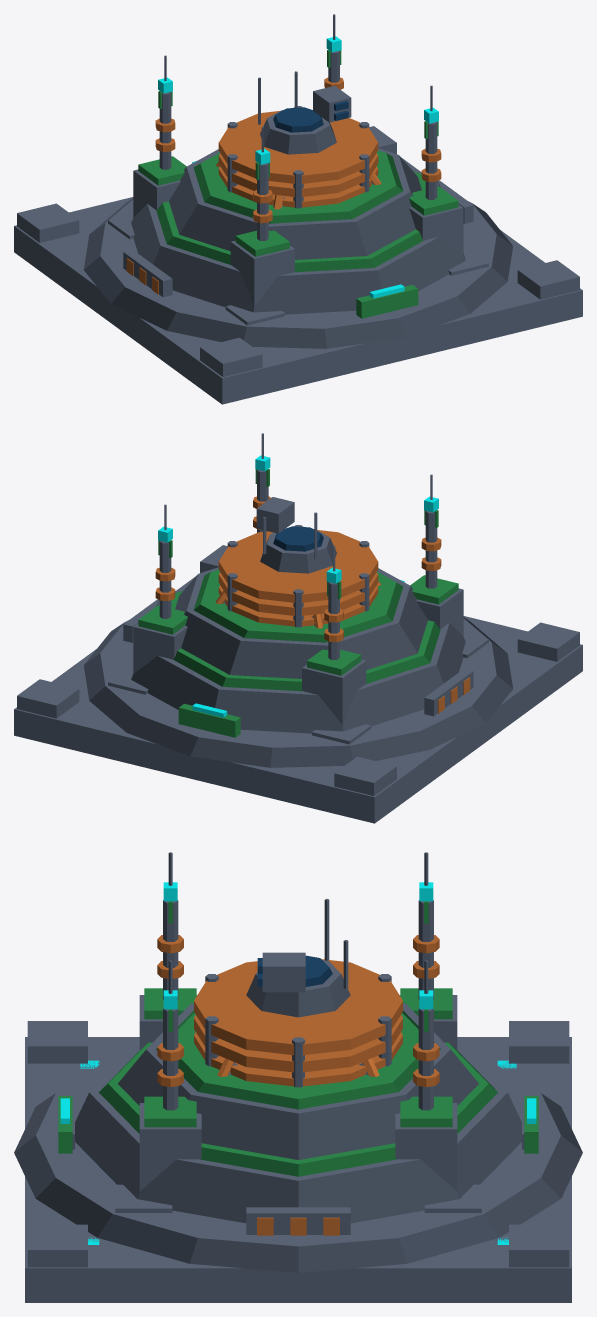
3 views of the same model, one above another, from view 1: azimuth 30°, elevation 25°; view 2: azimuth 150°, elevation 25°; view 3: azimuth 270°, elevation 25° (orthographic). The views are drawn at different scales.
Parts seen in each view (by area): view 1: ModelMesh; view 2: ModelMesh; view 3: ModelMesh.
Part boxes in pixels (box(x1,y1,x2,y2)): ModelMesh: box(14, 14, 582, 404); ModelMesh: box(14, 433, 582, 823); ModelMesh: box(14, 852, 582, 1302).
Size of the model in its own units: 1.2 by 0.65 by 1.2.
